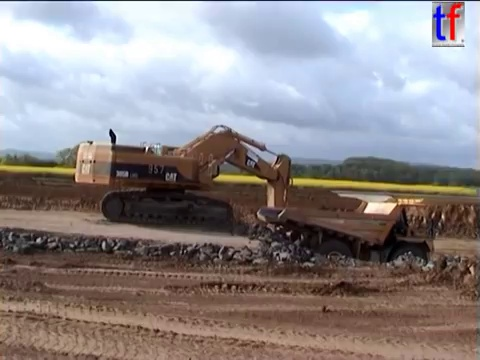excavator: (72, 122, 300, 256)
truck: (253, 195, 443, 288)
